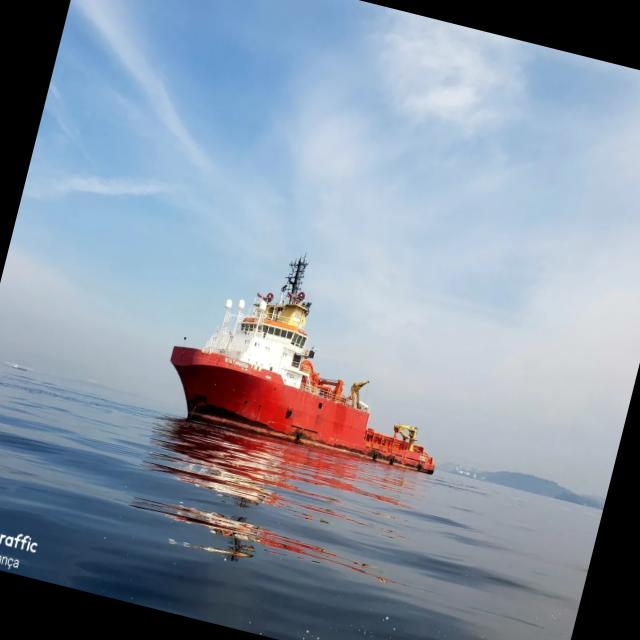Offshore: (170, 256, 434, 473)
